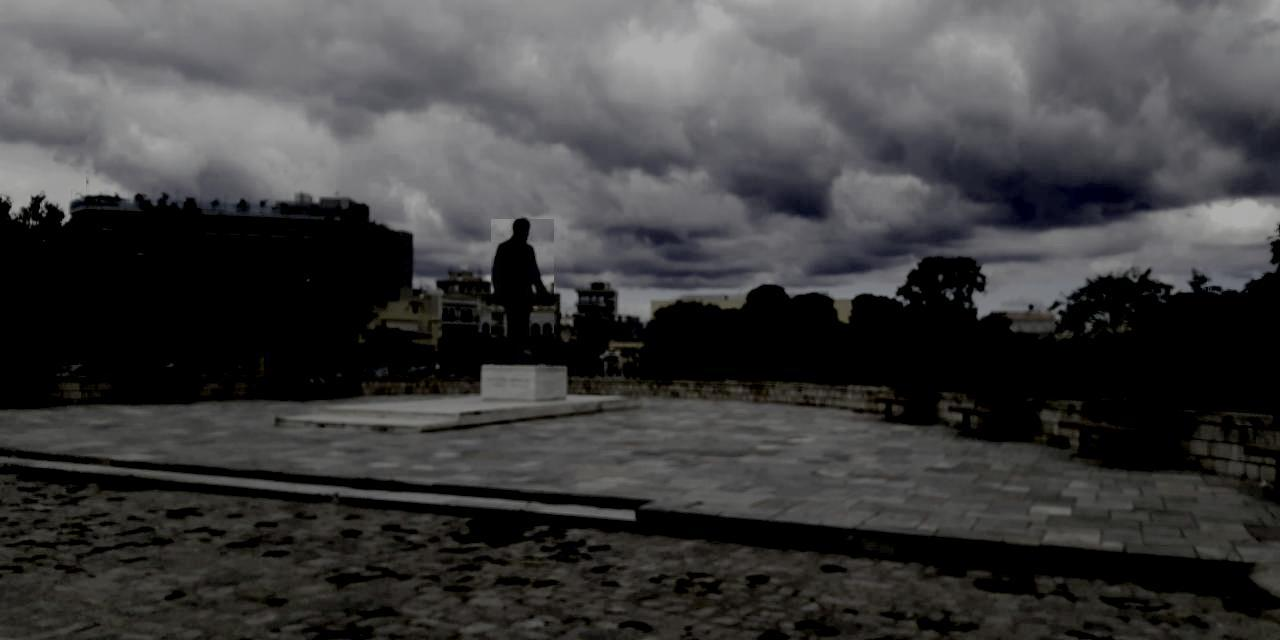Venizelos: (492, 220, 555, 361)
